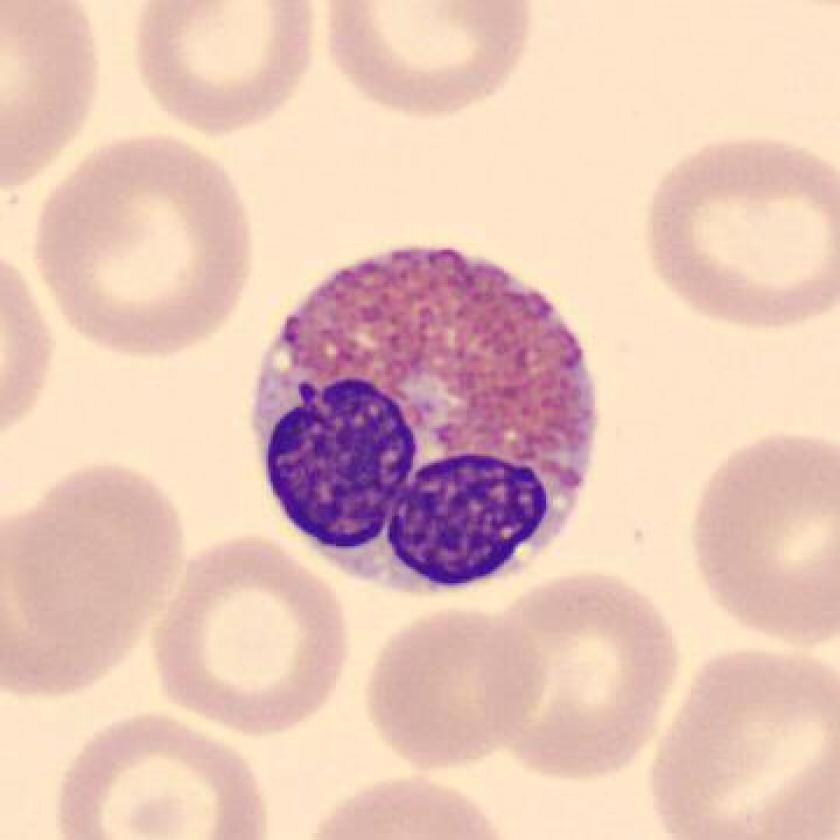eosinophil: (237, 235, 608, 607)
